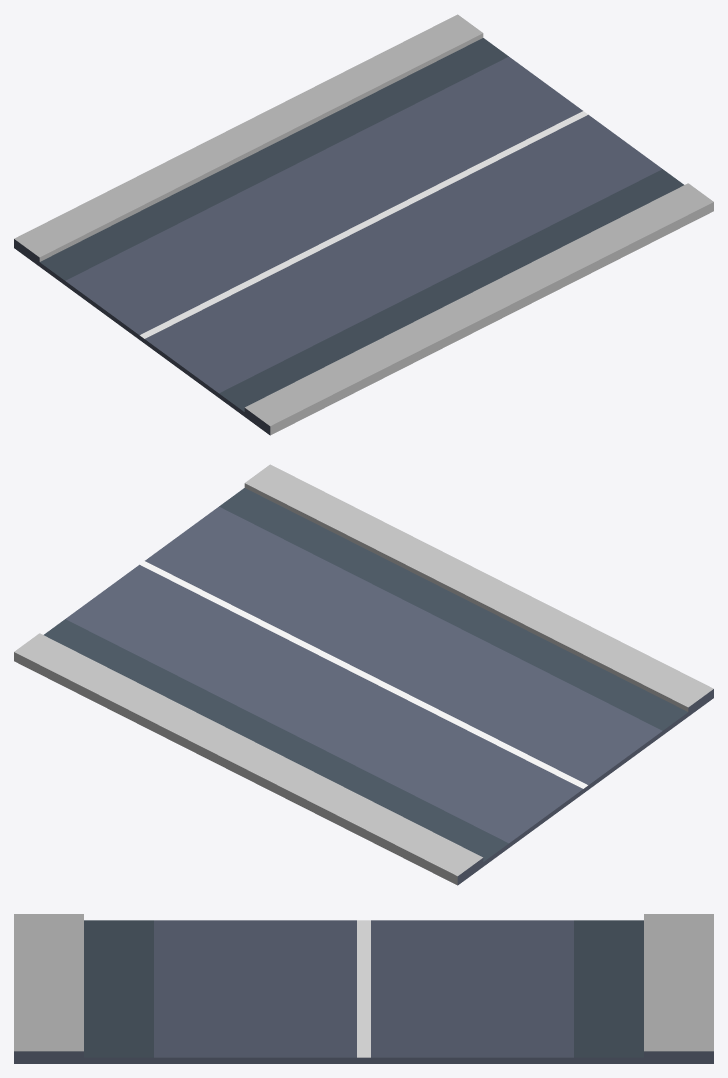
The model's file is SM_Road_Slant_Flat.fbx.
3 views of the same model, one above another, from view 1: azimuth 30°, elevation 25°; view 2: azimuth 150°, elevation 25°; view 3: azimuth 270°, elevation 25° (orthographic). The views are drawn at different scales.
Visible parts, largest first — view 1: SM_Road_Slant_Flat; view 2: SM_Road_Slant_Flat; view 3: SM_Road_Slant_Flat.
Part boxes in pixels (x1=…): SM_Road_Slant_Flat: x1=14, y1=14, x2=713, y2=435; SM_Road_Slant_Flat: x1=14, y1=464, x2=713, y2=885; SM_Road_Slant_Flat: x1=14, y1=914, x2=713, y2=1063.
Size of the model in its own units: 1000 by 270 by 1000.
